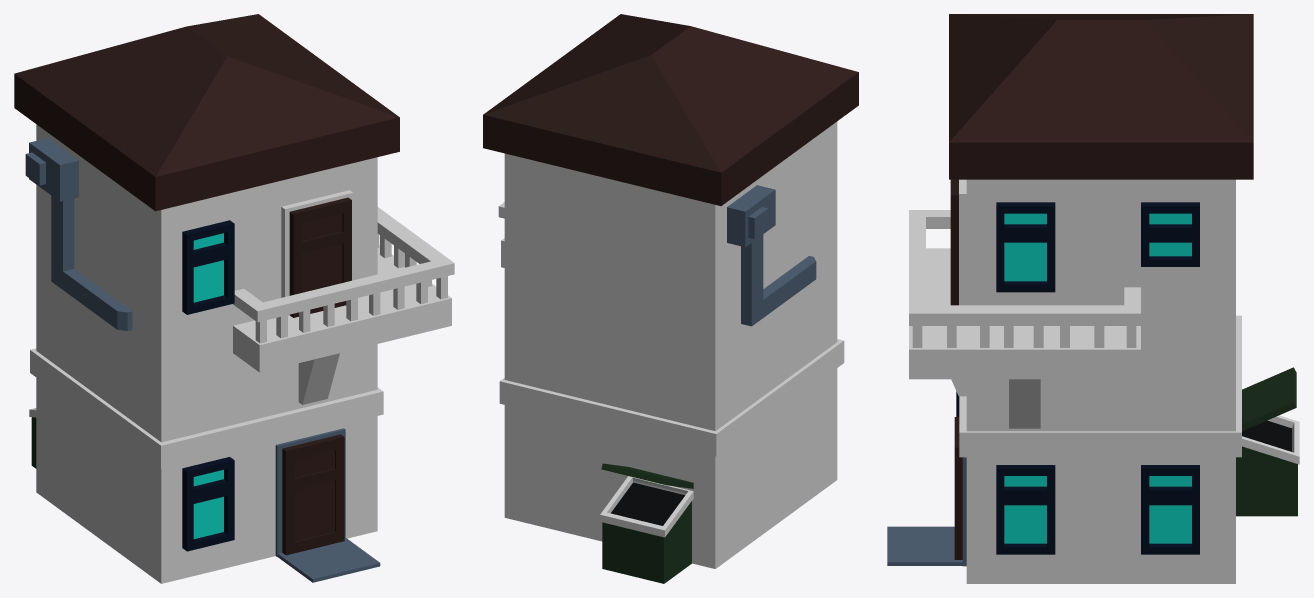
Rendered from TownHouse_6.fbx.
3 views of the same model, side by side, from view 1: azimuth 30°, elevation 25°; view 2: azimuth 150°, elevation 25°; view 3: azimuth 270°, elevation 25° (orthographic). The views are drawn at different scales.
Visible parts, largest first — view 1: TownHouse_6; view 2: TownHouse_6; view 3: TownHouse_6.
Boxes of the visible parts, <box> form: TownHouse_6: <box>14,14,454,583</box>; TownHouse_6: <box>483,14,858,583</box>; TownHouse_6: <box>887,14,1299,583</box>.
Size of the model in its own units: 27.27 by 41.94 by 30.89.
